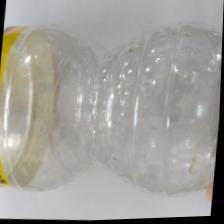plastic: (0, 0, 221, 219)
